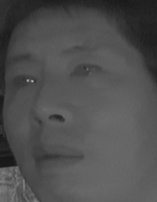eye: (67, 59, 103, 84), (9, 70, 38, 92)
mouth: (30, 137, 85, 174)
